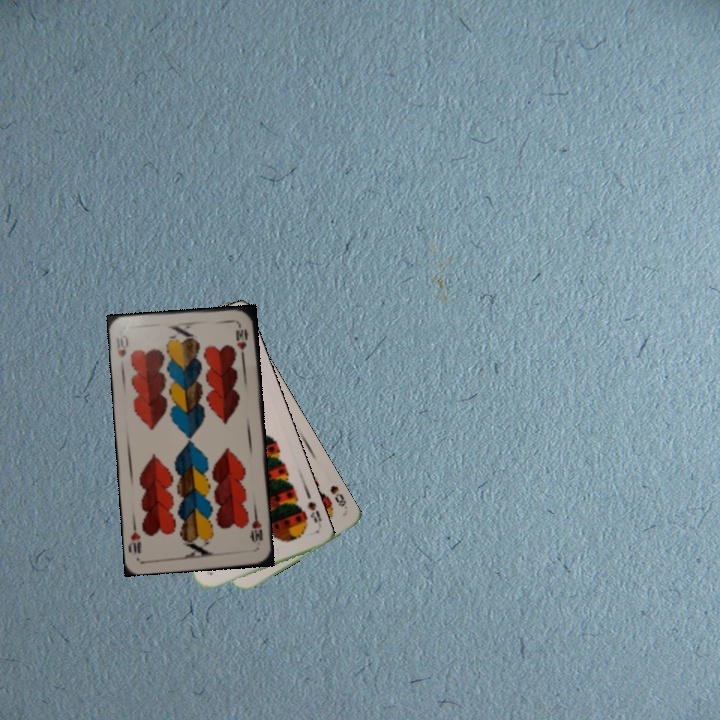H10: (247, 509, 266, 545), (112, 331, 131, 360)
S8: (326, 481, 350, 512), (303, 497, 324, 525)
